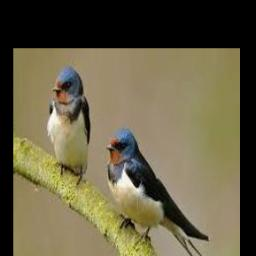Swallow: (105, 129, 228, 256), (47, 67, 91, 178)
